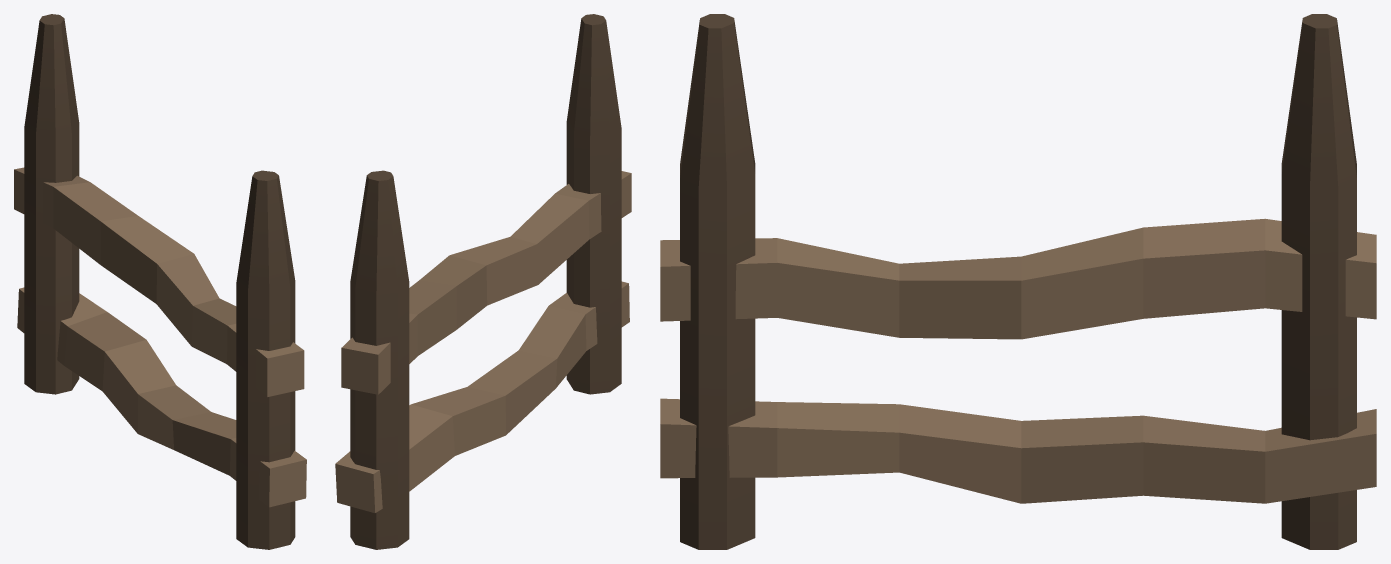
The model's file is RoadBlock.fbx.
3 views of the same model, side by side, from view 1: azimuth 30°, elevation 25°; view 2: azimuth 150°, elevation 25°; view 3: azimuth 270°, elevation 25° (orthographic). The views are drawn at different scales.
Visible parts, largest first — view 1: RoadBlock; view 2: RoadBlock; view 3: RoadBlock.
Part boxes in pixels (bbox=[...]): RoadBlock: bbox=[14, 14, 306, 549]; RoadBlock: bbox=[335, 14, 631, 549]; RoadBlock: bbox=[660, 14, 1376, 549].
Bounding box in the file's own units: 56.4 × 300 × 380.
